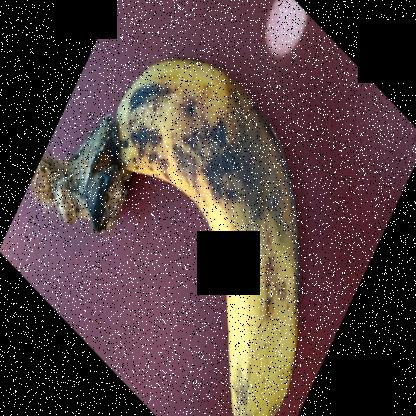rotten: (113, 42, 313, 415)
